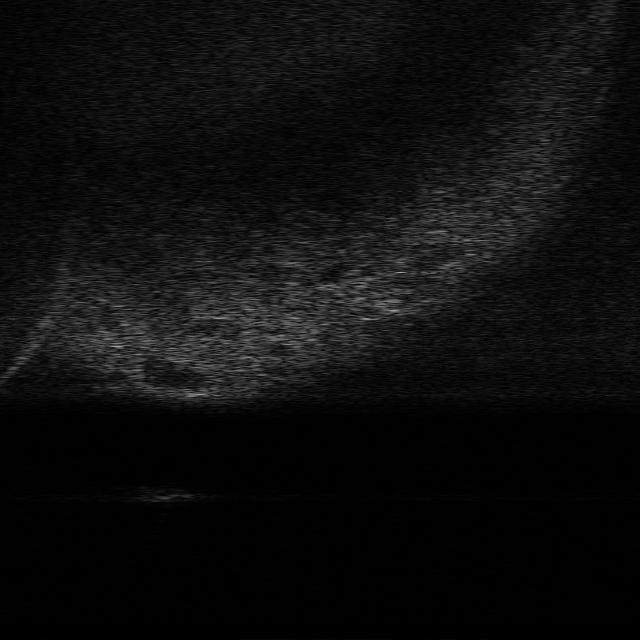cube: (139, 487, 196, 504)
